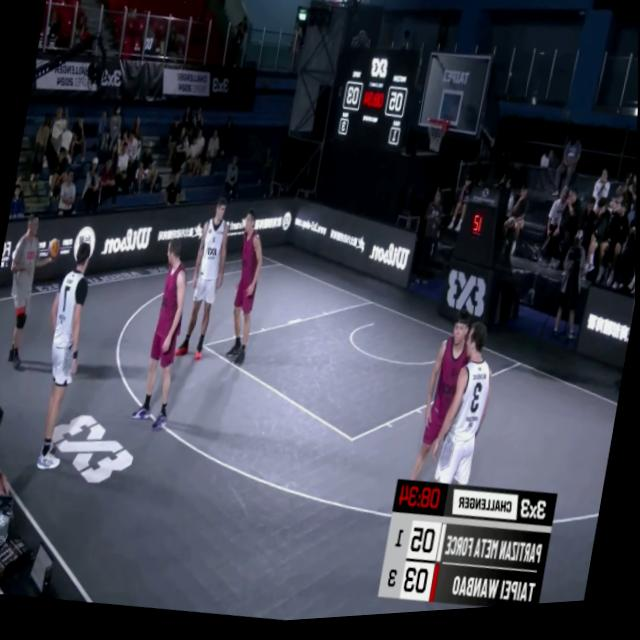ball: (46, 235, 64, 264)
hoop: (421, 116, 452, 165)
player: (29, 243, 101, 472), (408, 305, 487, 508), (130, 236, 198, 437), (432, 322, 503, 512), (175, 199, 235, 368), (224, 212, 274, 373)
